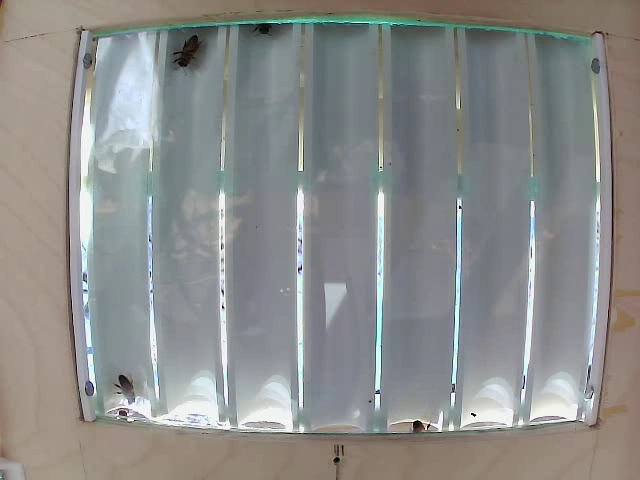bee: (173, 32, 220, 77)
